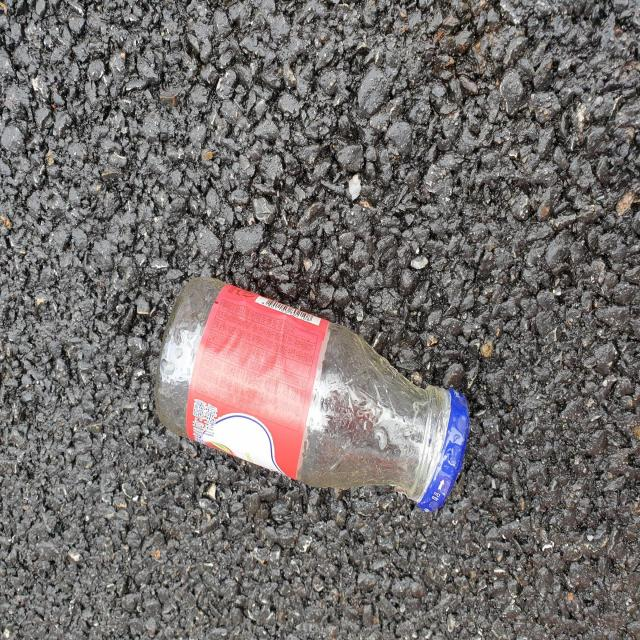glass: (156, 278, 470, 510)
